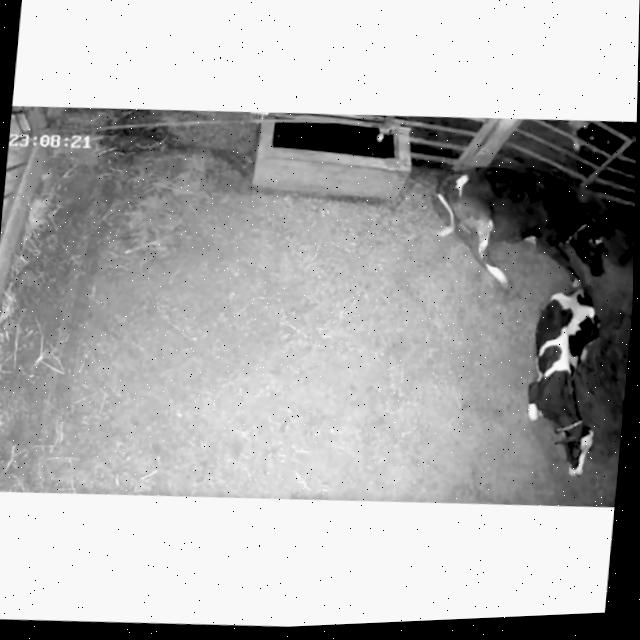lay: (416, 150, 626, 297), (508, 273, 627, 488)
